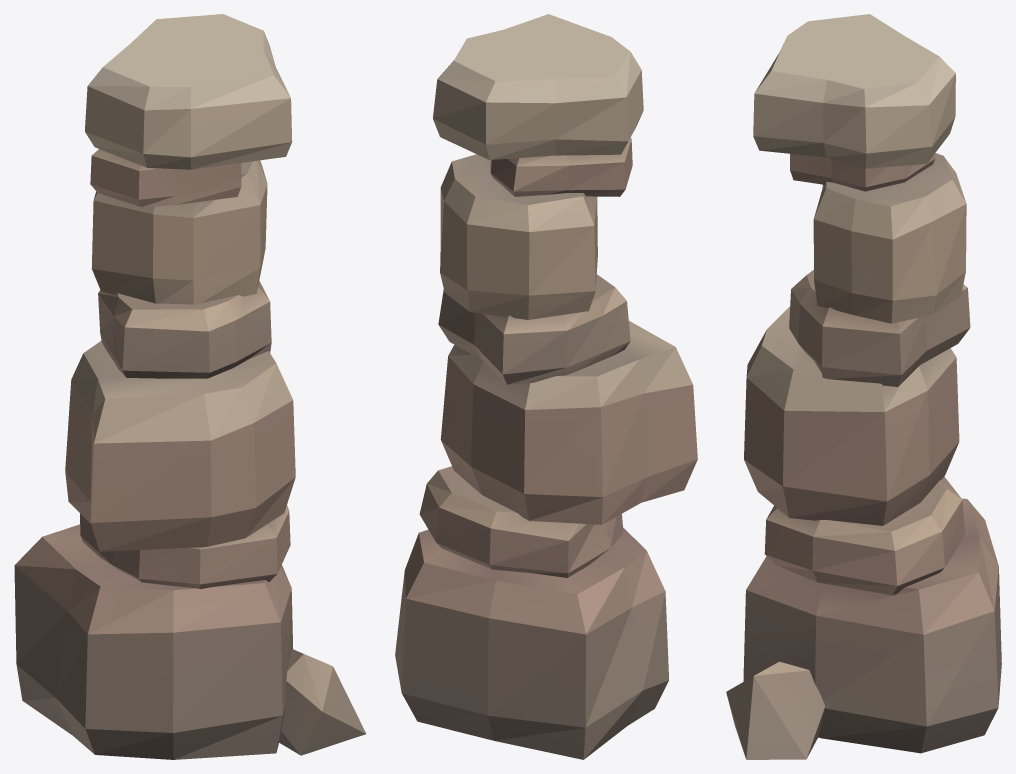
The model's file is pillar.glb.
3 renders of one model, left to right at view 1: azimuth 30°, elevation 25°; view 2: azimuth 150°, elevation 25°; view 3: azimuth 270°, elevation 25°, orthographic. The views are drawn at different scales.
Size of the model in its own units: 1.67 by 4.24 by 1.63.
